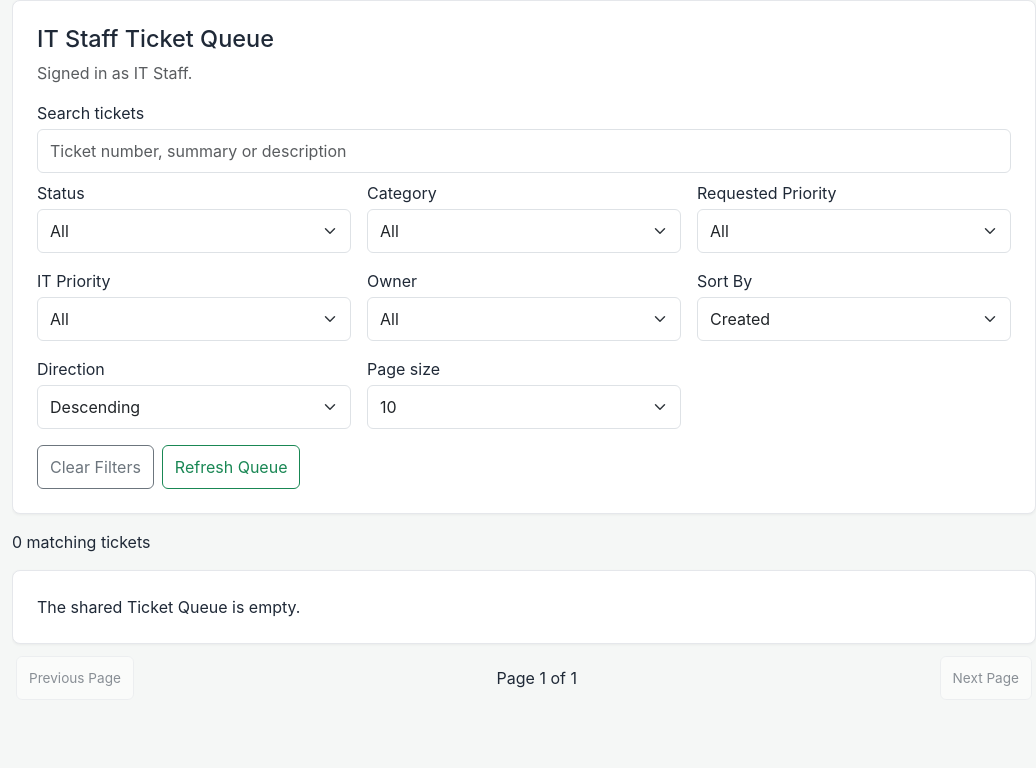
UI-07 Staff Queue › keeps empty queue and no matching results distinct
The image size is (1036, 768).
expect the text "The shared Ticket Queue is empty." is shown: met, box [12, 570, 1035, 644]
In the search field labelled "Search tickets": (524, 151) [37, 129, 1011, 173], type "missing"
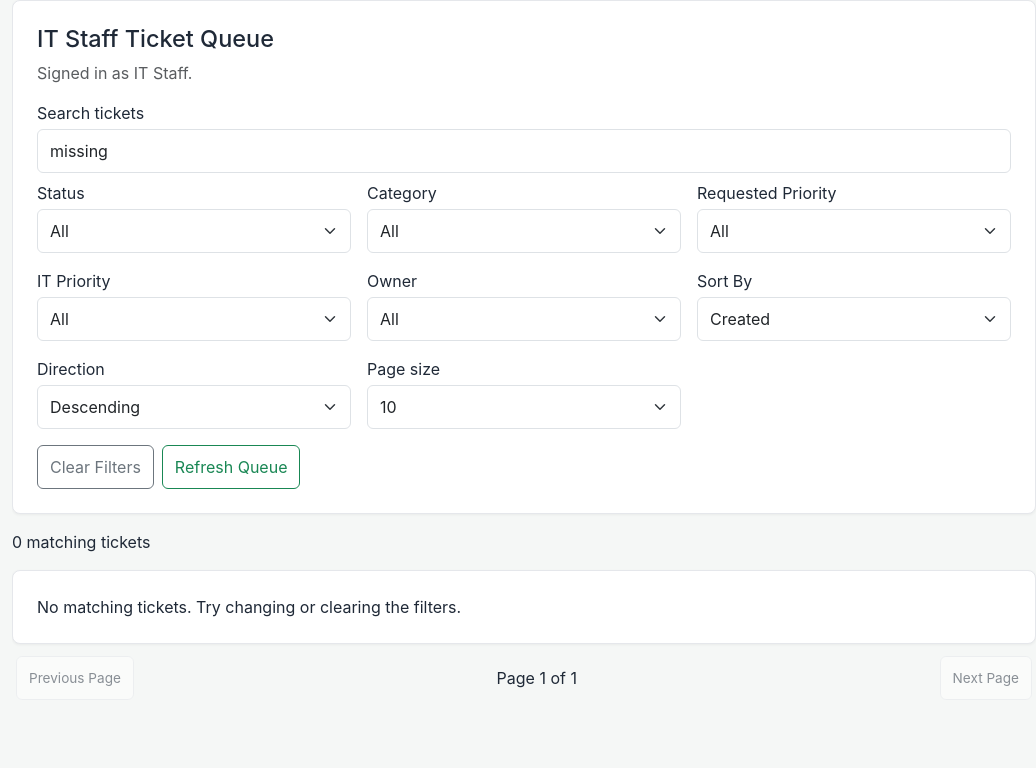
expect the text "No matching tickets. Try changing or clearing the filters." is shown: met, box [12, 570, 1035, 644]
